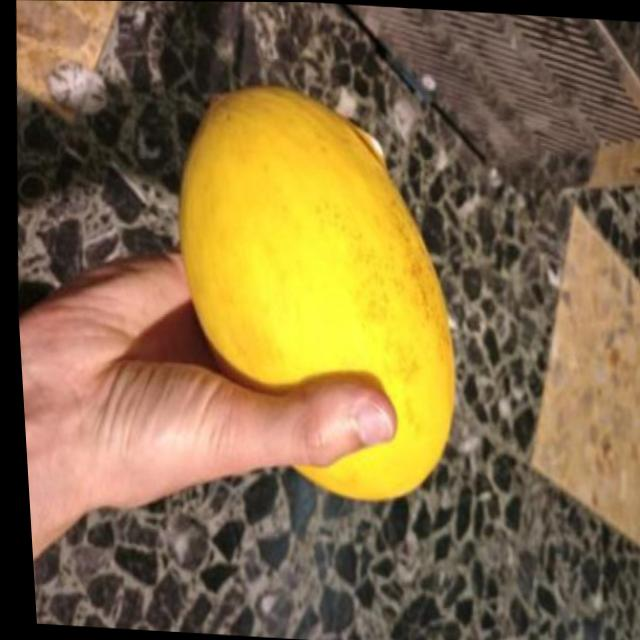Honeydew: (161, 77, 470, 505)
